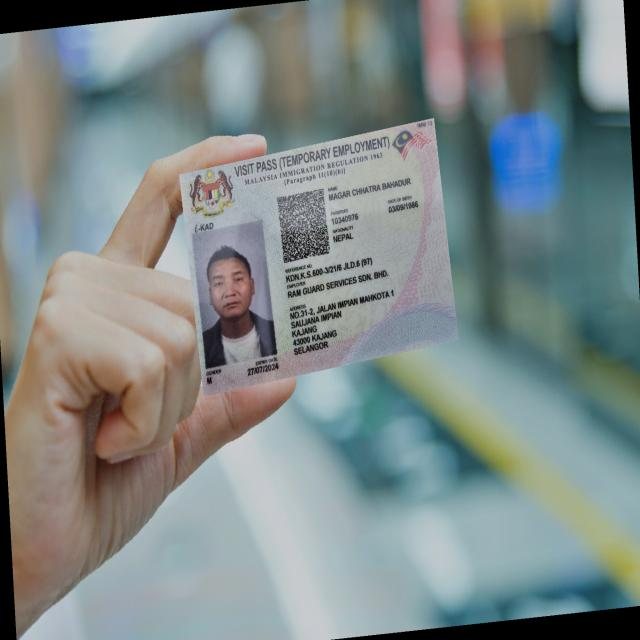ikad-temp: (178, 116, 459, 396)
